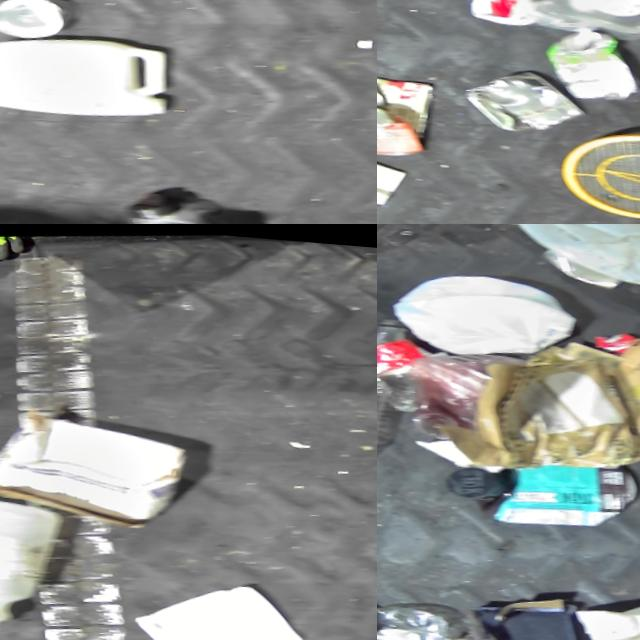can: (449, 57, 589, 141), (377, 61, 442, 142), (0, 0, 71, 51), (377, 93, 425, 167)
milk_jug: (380, 256, 588, 373), (0, 15, 171, 130), (0, 479, 85, 638), (503, 224, 640, 301), (377, 310, 430, 413), (558, 590, 640, 640)
plastic_bottle: (377, 360, 401, 501)
